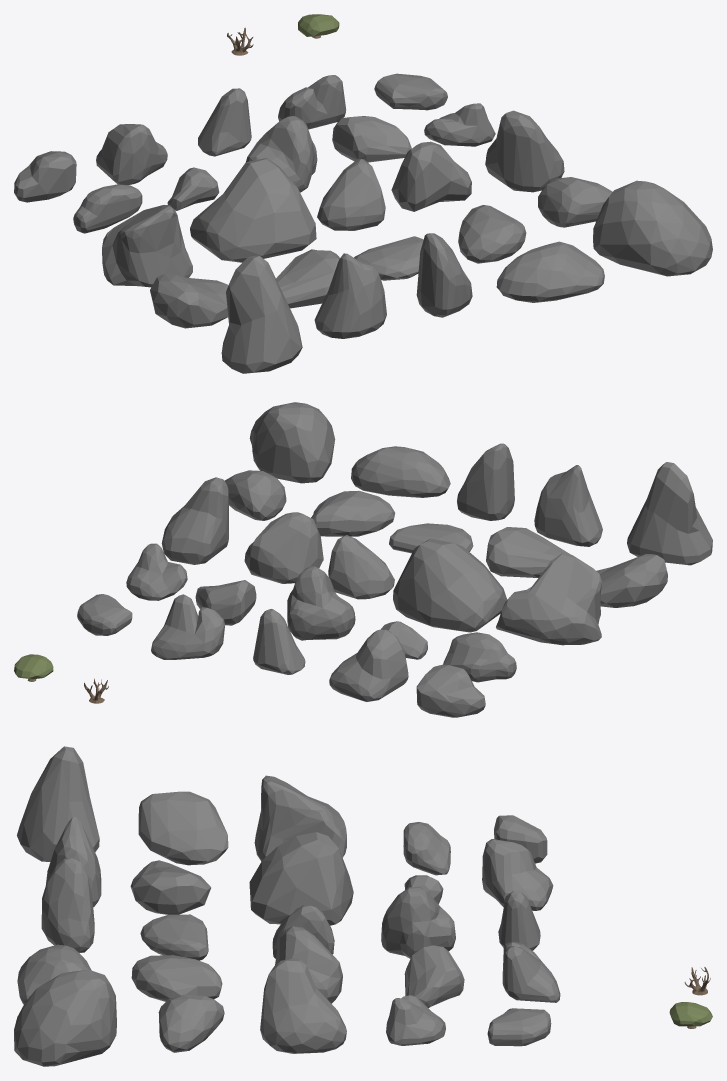
Rendered from Rochers.fbx.
3 views of the same model, one above another, from view 1: azimuth 30°, elevation 25°; view 2: azimuth 150°, elevation 25°; view 3: azimuth 270°, elevation 25° (orthographic). The views are drawn at different scales.
Parts seen in each view (by area): view 1: Stone-12, Stone-11, Stone-8, Stone-10, Stone-9, Stone-15, Stone-7, Stone-14, Stone-13, Stone-5, Stone-6, Stone-24 (+14 smaller); view 2: Stone-12, Stone-10, Stone-8, Stone-11, Stone-15, Stone-14, Stone-9, Stone-7, Stone-24, Stone-18, Stone-22, Stone-6 (+14 smaller); view 3: Stone-11, Stone-12, Stone-15, Stone-8, Stone-5, Stone-10, Stone-6, Stone-18, Stone-24, Stone-3, Stone-4, Stone-1 (+14 smaller).
Part boxes in pixels (x1,y1,x2,y2): Stone-12: (190,158,316,262); Stone-11: (593,180,712,276); Stone-8: (221,255,302,373); Stone-10: (102,205,192,287); Stone-9: (496,241,604,302); Stone-15: (485,110,564,192); Stone-7: (314,253,386,338); Stone-14: (391,141,471,211); Stone-13: (317,159,385,230); Stone-5: (150,274,228,328); Stone-6: (416,233,472,317); Stone-24: (96,124,167,184); Stone-12: (393,538,507,632); Stone-10: (496,553,601,645); Stone-8: (627,462,712,565); Stone-11: (249,402,335,483); Stone-15: (161,477,228,564); Stone-14: (244,512,323,583); Stone-9: (351,446,450,497); Stone-7: (534,465,602,546); Stone-24: (329,629,408,701); Stone-18: (287,566,355,640); Stone-22: (151,594,224,659); Stone-6: (457,443,514,520); Stone-11: (14,970,116,1066); Stone-12: (249,832,353,925); Stone-15: (260,958,346,1053); Stone-8: (17,746,99,861); Stone-5: (138,791,228,865); Stone-10: (254,775,346,861); Stone-6: (41,858,94,952); Stone-18: (381,887,455,958); Stone-24: (482,839,553,910); Stone-3: (131,955,222,1001); Stone-4: (130,860,211,914); Stone-1: (158,994,224,1052).
Bounding box in the file's own units: 4320 × 879 × 5214.
